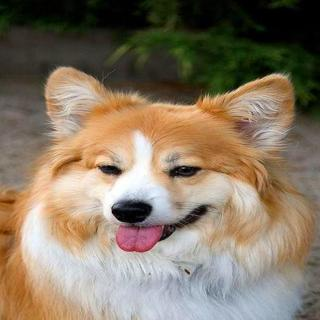dog: (23, 59, 320, 274)
nose: (111, 195, 151, 227)
